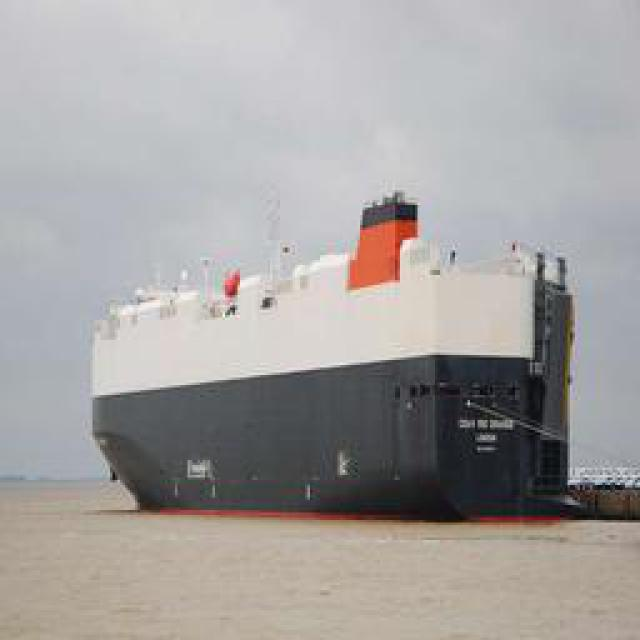Ship: (82, 184, 570, 517)
